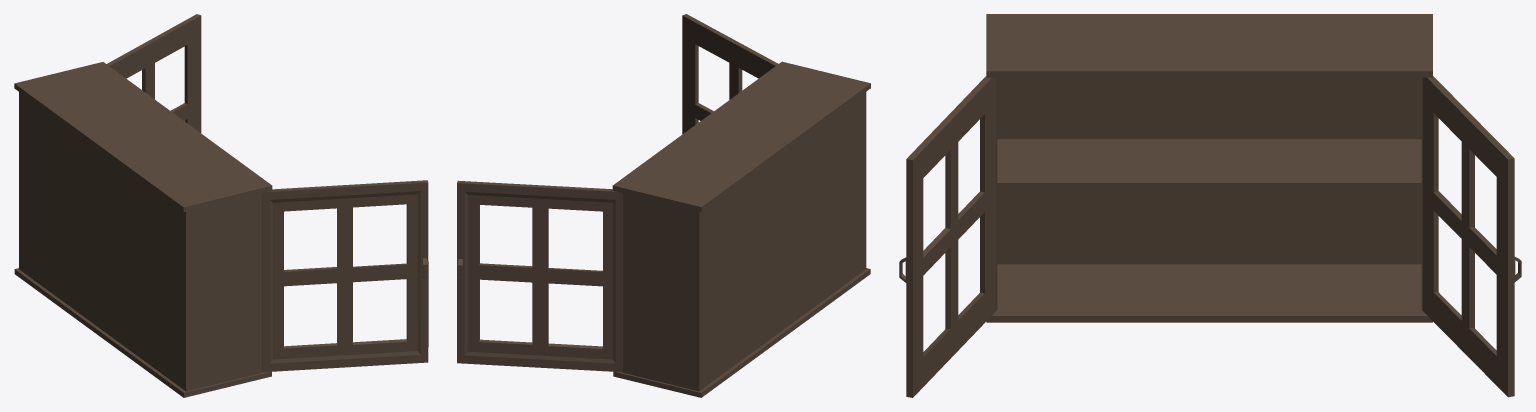
File: open_cabinet.fbx
3 views of the same model, side by side, from view 1: azimuth 30°, elevation 25°; view 2: azimuth 150°, elevation 25°; view 3: azimuth 270°, elevation 25° (orthographic). The views are drawn at different scales.
Visible parts, largest first — view 1: pCube4, pCube8, pCube5, pCube10, pCube6; view 2: pCube4, pCube10, pCube5, pCube8, pCube6; view 3: pCube4, pCube5, pCube6, pCube7, pCube10, pCube8.
Part boxes in pixels (box(x1,y1,x2,y2)): pCube4: box(19, 92, 261, 391); pCube8: box(262, 180, 428, 372); pCube5: box(14, 62, 272, 212); pCube10: box(106, 14, 201, 132); pCube6: box(14, 268, 271, 397); pCube4: box(623, 92, 866, 391); pCube10: box(457, 180, 622, 372); pCube5: box(612, 61, 870, 211); pCube8: box(682, 14, 778, 134); pCube6: box(613, 268, 870, 397); pCube4: box(996, 77, 1422, 310); pCube5: box(986, 14, 1432, 77); pCube6: box(986, 264, 1432, 322); pCube7: box(997, 139, 1421, 189); pCube10: box(1422, 76, 1521, 397); pCube8: box(899, 76, 995, 397).
Bounding box in the file's own units: 415 × 350 × 784.
